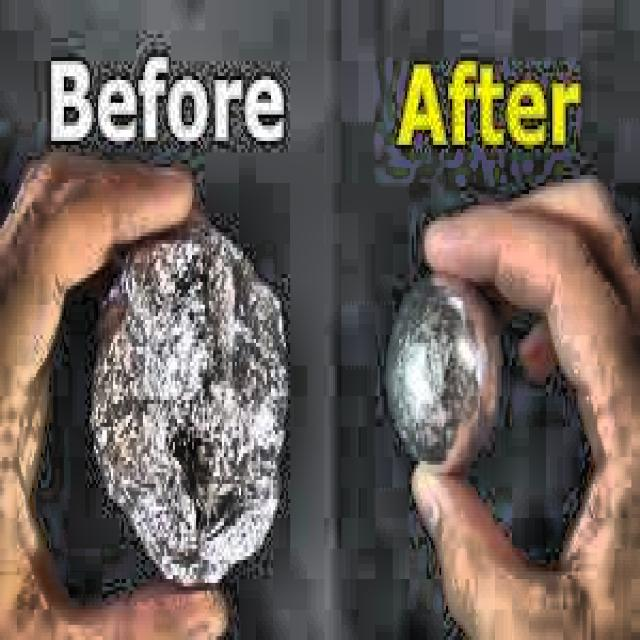Foil: (84, 203, 300, 604)
